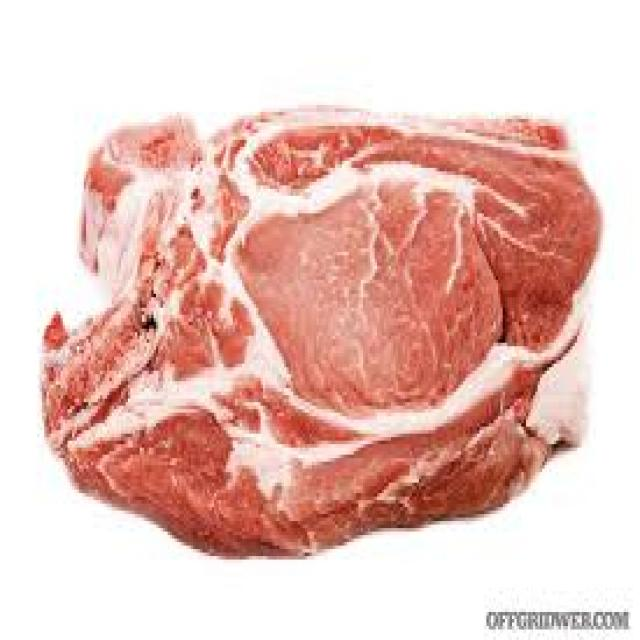organic waste: (39, 108, 600, 556)
